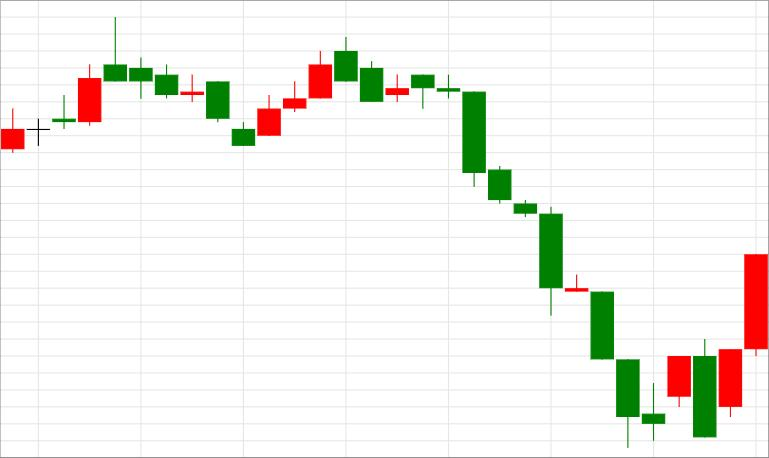morning_star_rise: (412, 74, 691, 448)
